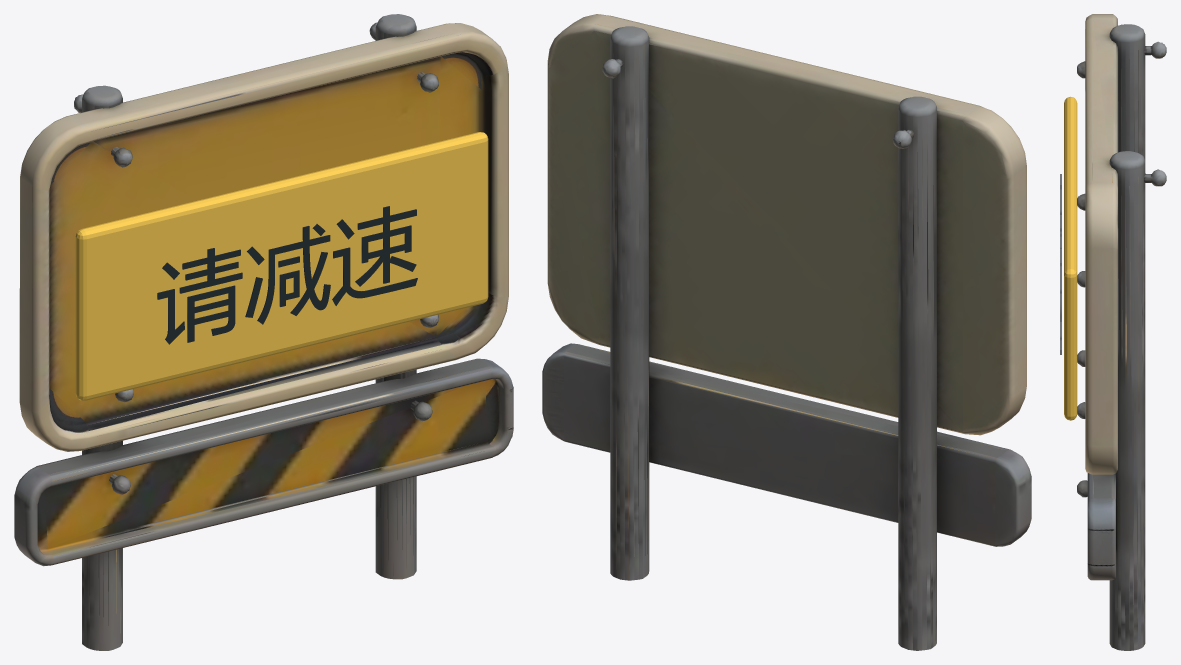
Rendered from warning-sign.glb.
3 views of the same model, side by side, from view 1: azimuth 30°, elevation 25°; view 2: azimuth 150°, elevation 25°; view 3: azimuth 270°, elevation 25° (orthographic). The views are drawn at different scales.
Visible parts, largest first — view 1: Tripo_tripo_node_63e4ed36-1b3f-48cc-9ab1-390b2c91e1ac, Clean sign face, 请减速; view 2: Tripo_tripo_node_63e4ed36-1b3f-48cc-9ab1-390b2c91e1ac; view 3: Tripo_tripo_node_63e4ed36-1b3f-48cc-9ab1-390b2c91e1ac, Clean sign face, 请减速.
Boxes of the visible parts, x1,y1,x2,y2 form: Tripo_tripo_node_63e4ed36-1b3f-48cc-9ab1-390b2c91e1ac: (14,14,513,650); Clean sign face: (75,132,488,400); 请减速: (157,206,417,344); Tripo_tripo_node_63e4ed36-1b3f-48cc-9ab1-390b2c91e1ac: (542,14,1031,650); Tripo_tripo_node_63e4ed36-1b3f-48cc-9ab1-390b2c91e1ac: (1077,14,1166,650); Clean sign face: (1064,96,1077,420); 请减速: (1060,174,1061,354).
Bounding box in the file's own units: 0.9256 × 1 × 0.1972.
Materials: 3 (1 with a texture image).
